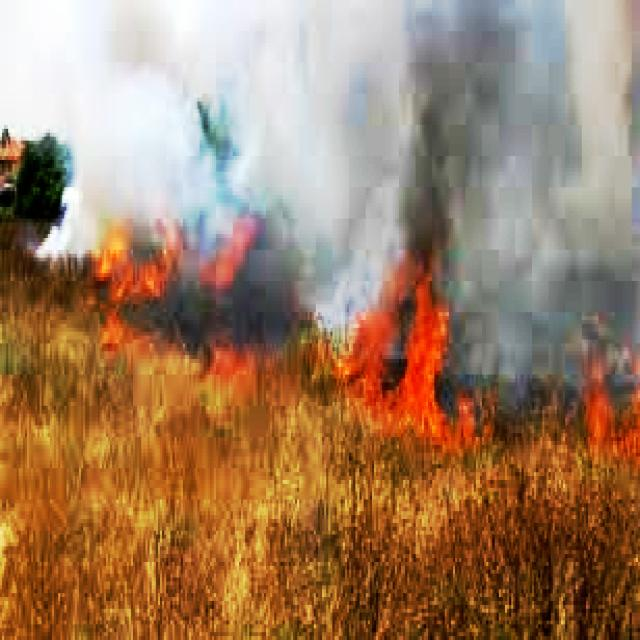api: (346, 306, 412, 420), (409, 289, 445, 439), (133, 240, 178, 315), (94, 222, 128, 280), (208, 343, 249, 375), (457, 400, 481, 444)
asap: (70, 1, 635, 229), (470, 230, 640, 402), (184, 232, 320, 330), (324, 226, 468, 288), (29, 194, 89, 285)
